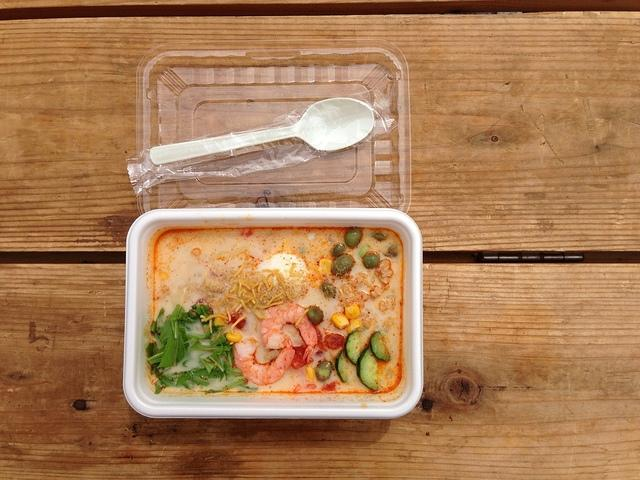corn: (332, 312, 349, 330), (344, 319, 360, 335), (226, 328, 243, 342), (346, 303, 360, 319), (319, 258, 332, 274), (306, 365, 315, 381)
cucumber: (356, 346, 378, 391), (370, 330, 390, 362), (344, 330, 361, 366), (336, 349, 346, 382)
